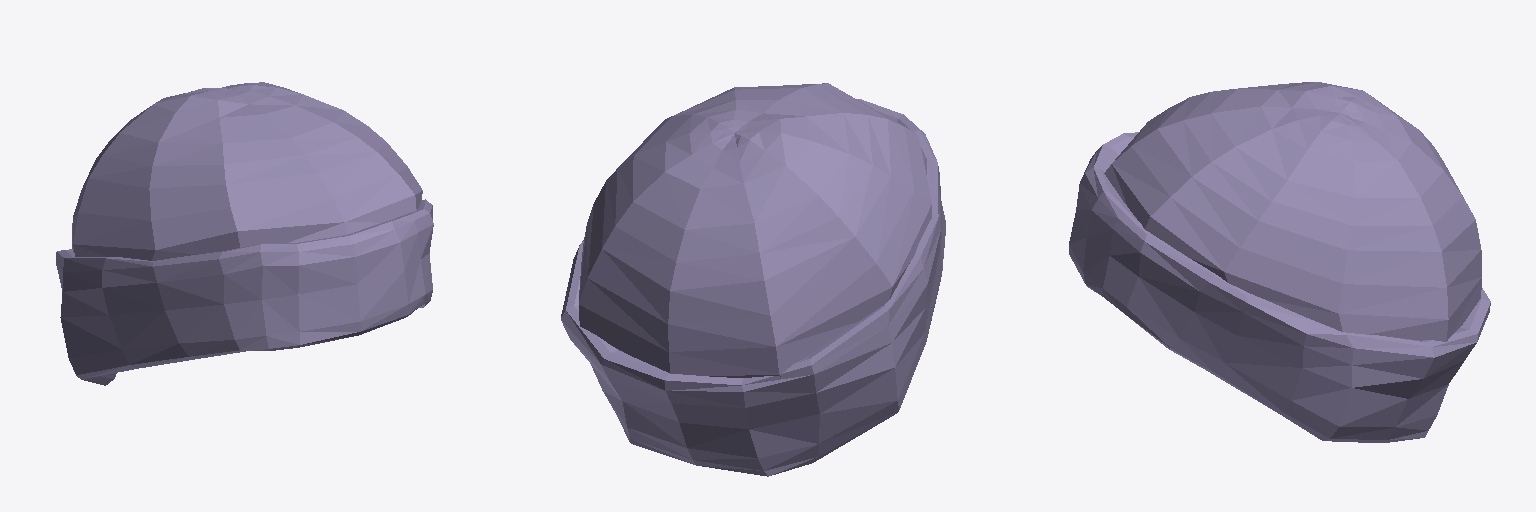
File: hat01.obj
The picture shows the model from 3 angles: view 1: azimuth 30°, elevation 25°; view 2: azimuth 150°, elevation 25°; view 3: azimuth 270°, elevation 25°; orthographic projection.
Visible parts, largest first — view 1: slav_hat_1; view 2: slav_hat_1; view 3: slav_hat_1.
Part boxes in pixels (left/top/right/bottom): slav_hat_1: left=56, top=82, right=433, bottom=385; slav_hat_1: left=561, top=83, right=945, bottom=476; slav_hat_1: left=1069, top=82, right=1490, bottom=442.
Bounding box in the file's own units: 8.39 × 7.59 × 9.5.